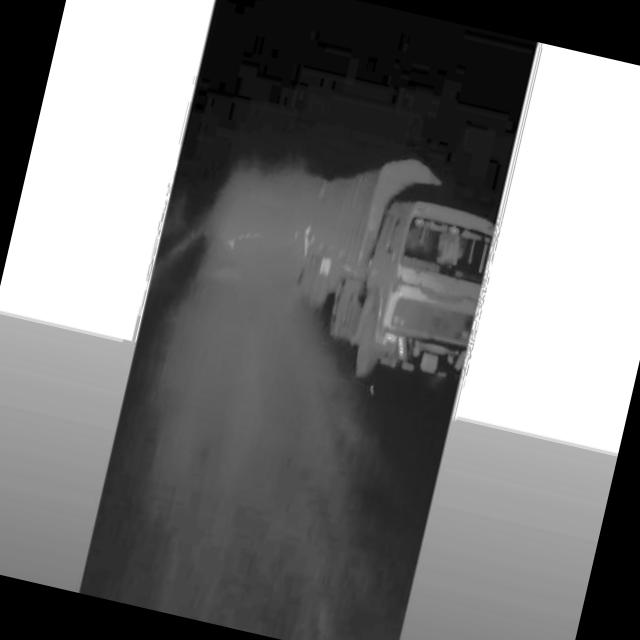Truck: (272, 134, 506, 406)
